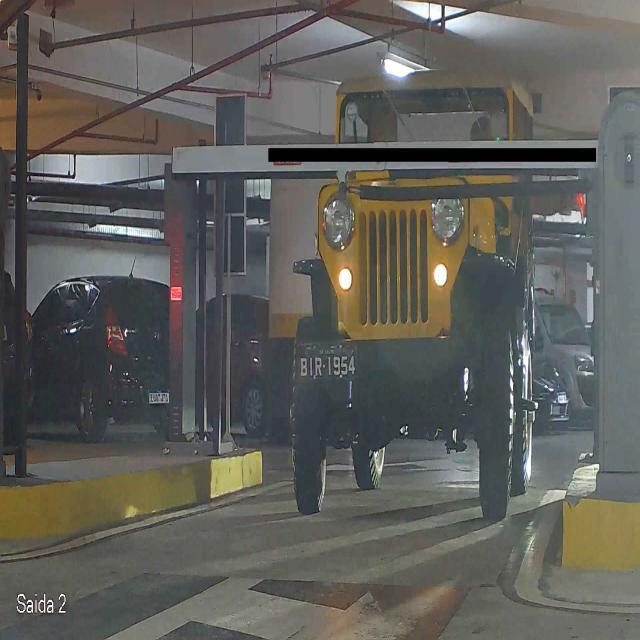old_plate: (293, 342, 360, 382)
